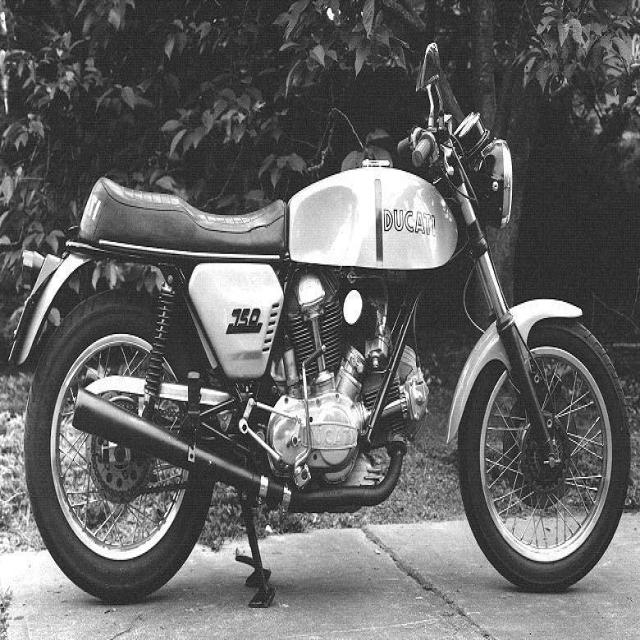Motorcycle: (10, 41, 632, 606)
